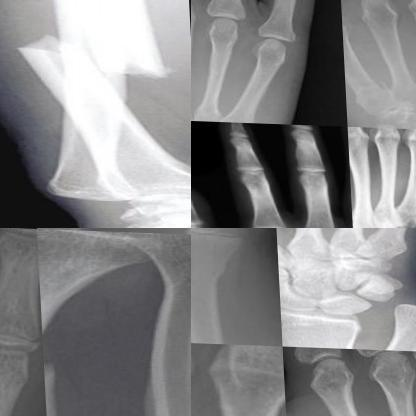fracture: (40, 336, 70, 398), (347, 73, 393, 111), (191, 228, 261, 249), (191, 104, 202, 120)
